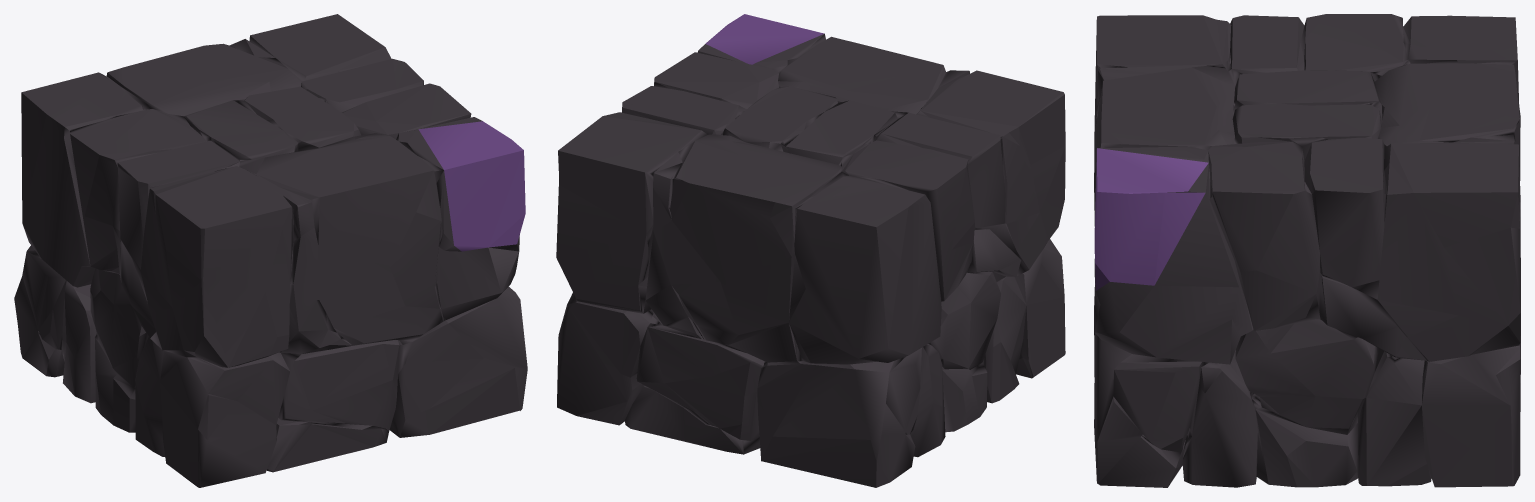
Rendered from cover_half_caves_v1.glb.
The picture shows the model from 3 angles, left to right: view 1: azimuth 30°, elevation 25°; view 2: azimuth 150°, elevation 25°; view 3: azimuth 270°, elevation 25°; orthographic projection. The views are drawn at different scales.
Size of the model in its own units: 1 by 0.7616 by 0.9995.
